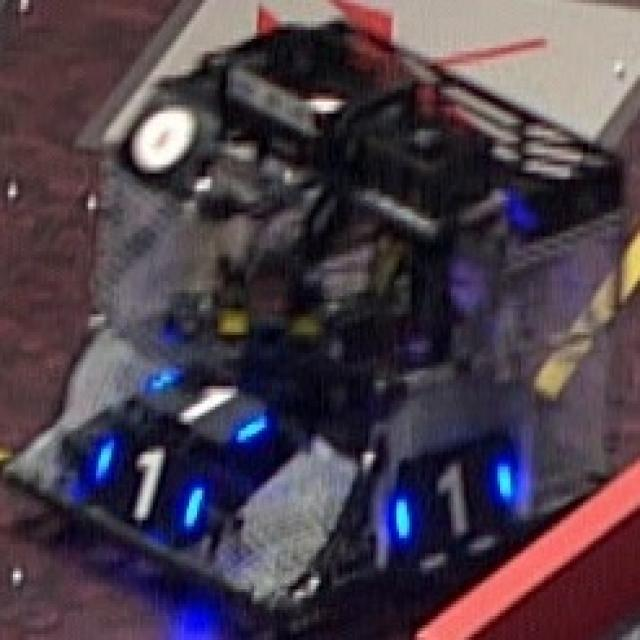B1: (88, 422, 218, 529), (388, 455, 520, 547), (145, 353, 272, 443)
